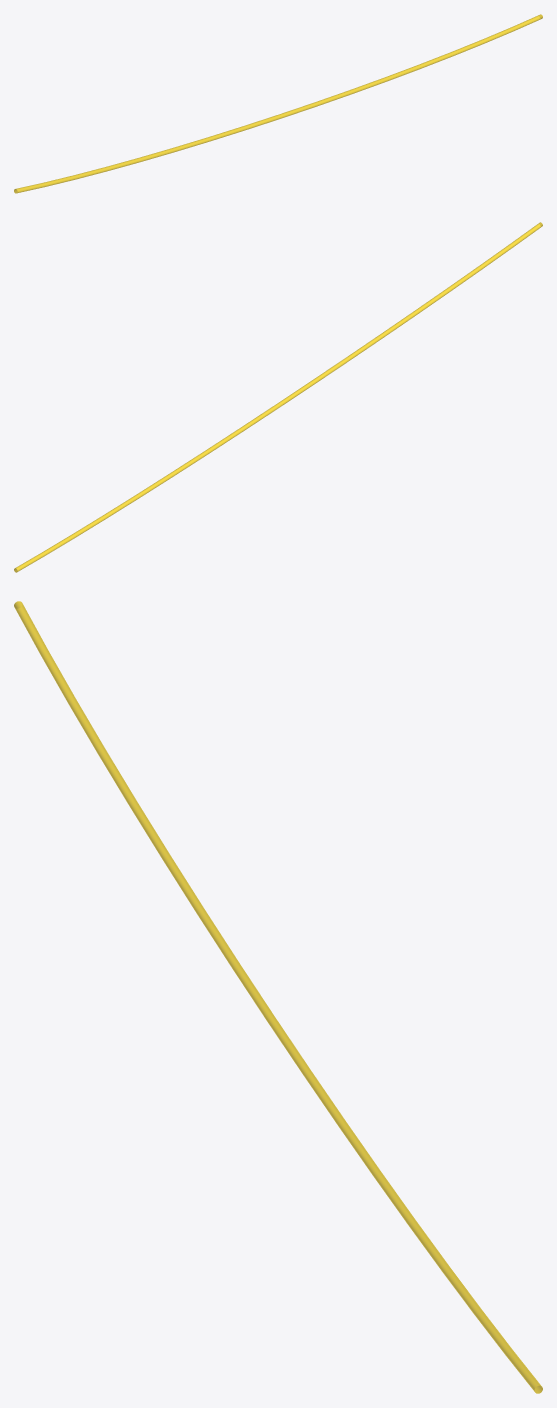
Rendered from Event_419990632_track_13.fbx.
3 views of the same model, one above another, from view 1: azimuth 30°, elevation 25°; view 2: azimuth 210°, elevation 25°; view 3: azimuth 270°, elevation 25° (orthographic). The views are drawn at different scales.
Visible parts, largest first — view 1: Model; view 2: Model; view 3: Model.
Part boxes in pixels (bbox=[...]): Model: bbox=[14, 14, 542, 193]; Model: bbox=[14, 222, 542, 572]; Model: bbox=[14, 601, 542, 1393].
Size of the model in its own units: 6.49 by 0.8425 by 2.34.
